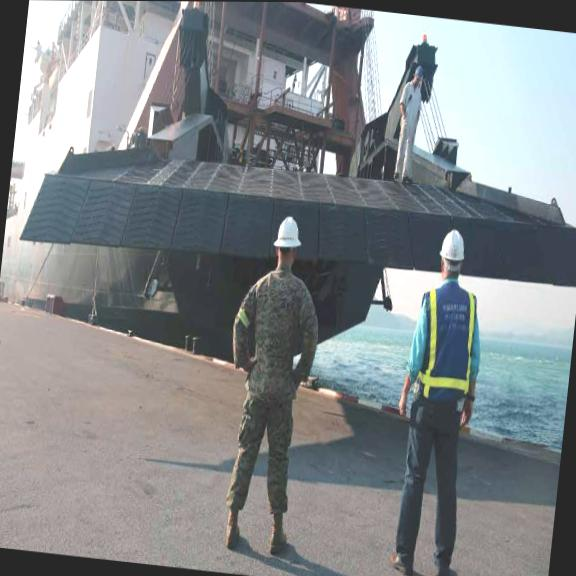no_safety_vest: (234, 266, 320, 406), (396, 78, 425, 122)
safety_vest: (410, 284, 488, 402)
